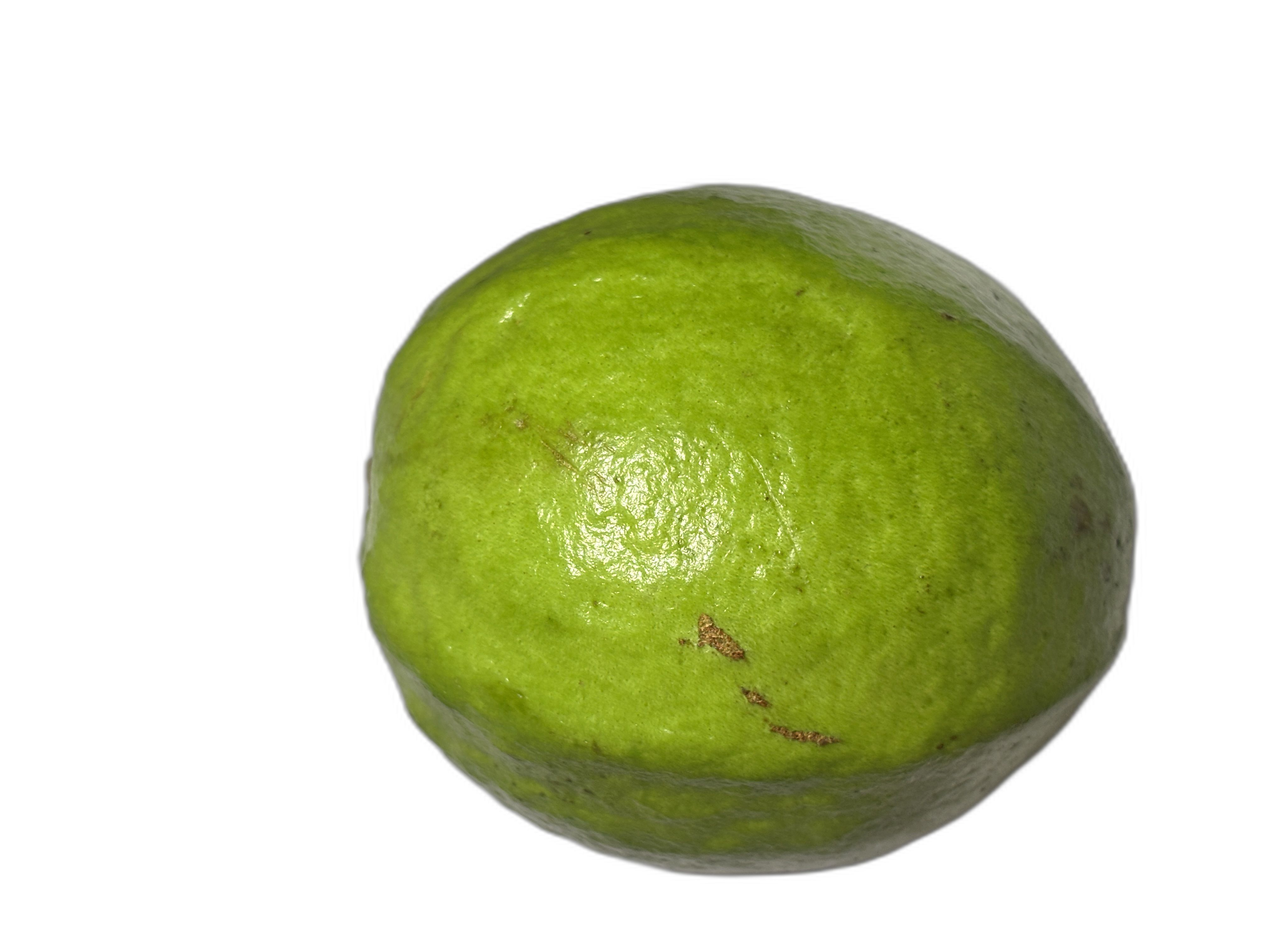guava: (58, 0, 960, 830)
